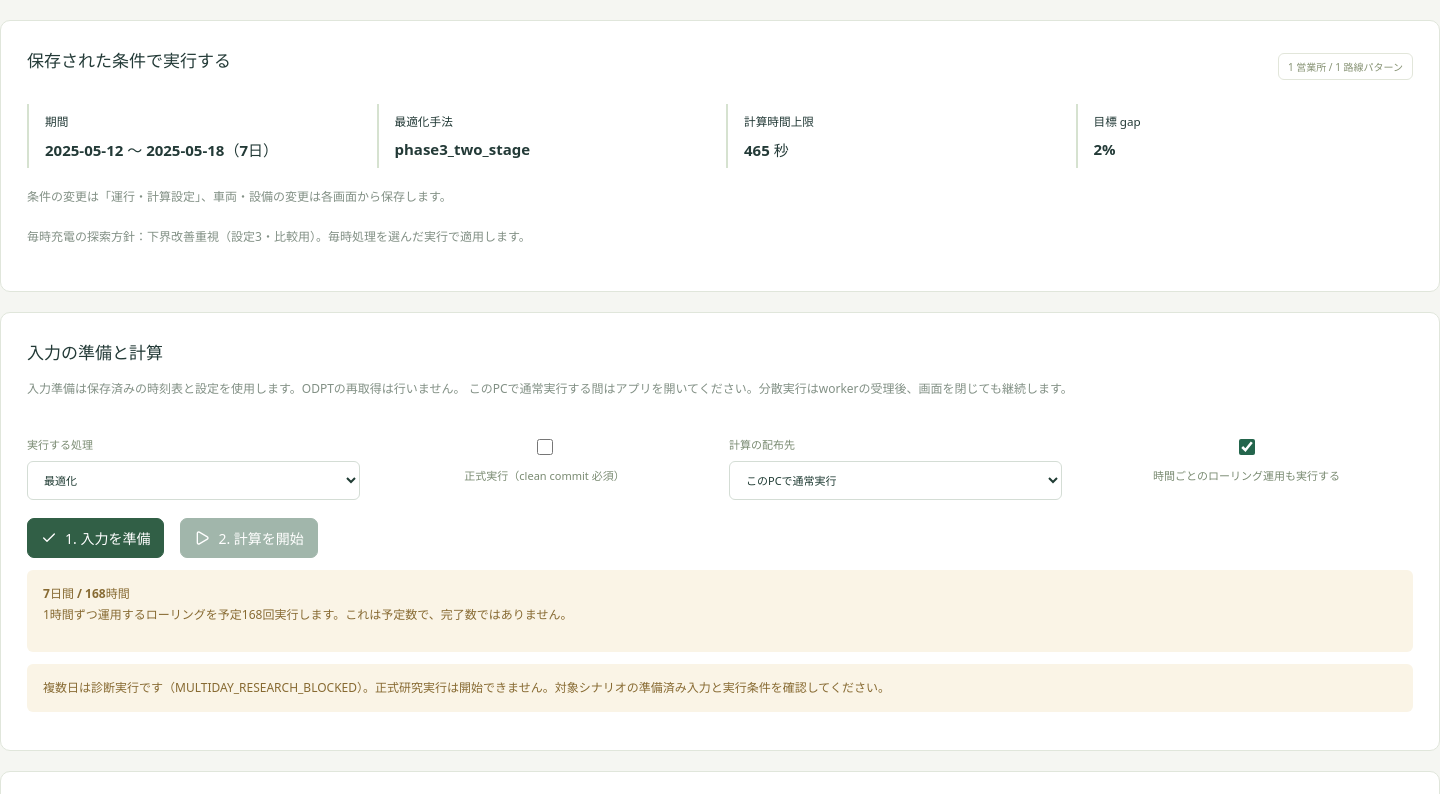
Test case: shows 168 planned windows and blocks formal seven-day execution
The image size is (1440, 794).
Click the button "1. 入力を準備". click: (96, 538)
box: [27, 518, 164, 558]
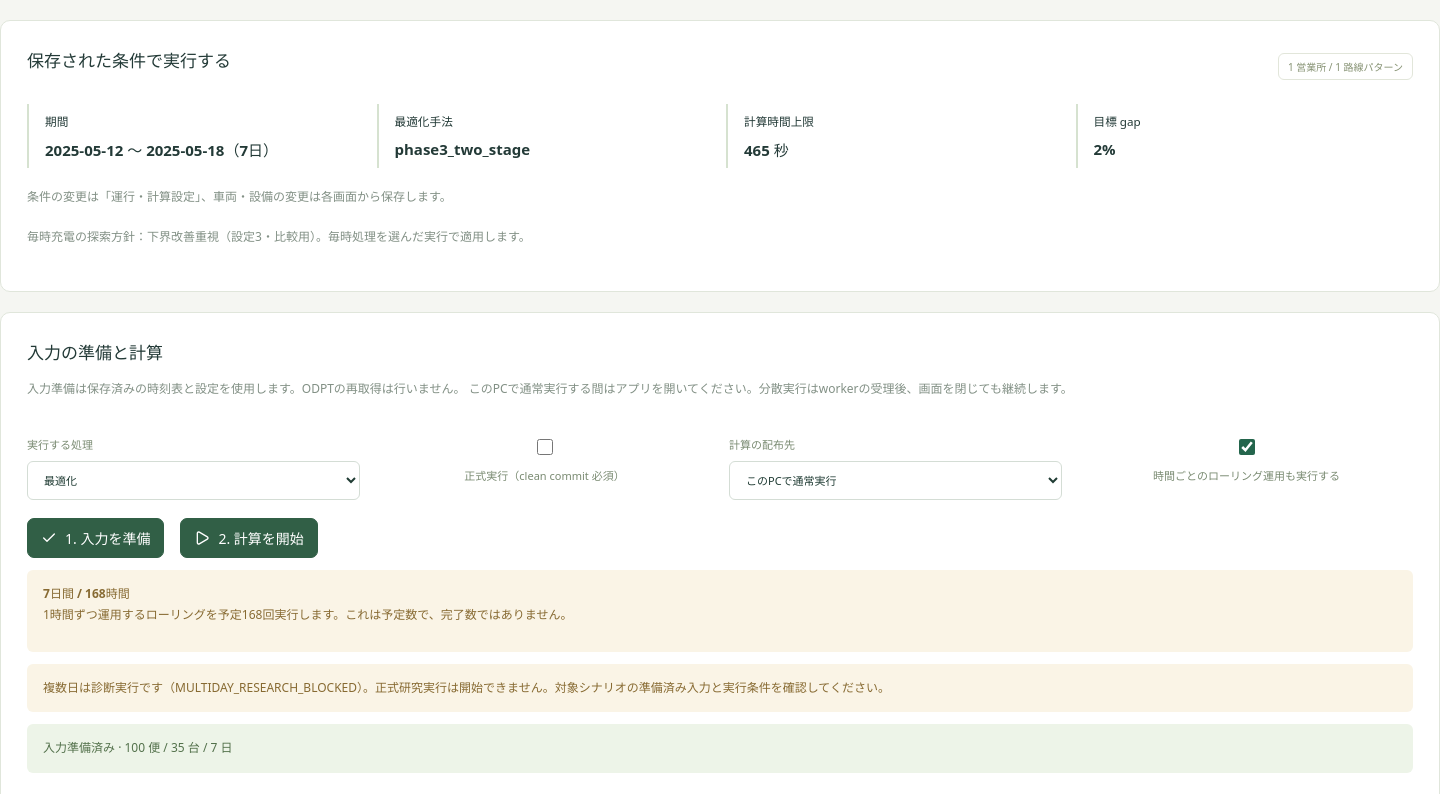
Expected: the text "1時間ずつ運用するローリングを予定168回実行します。これは予定数で、完了数ではありません。" is shown, [43, 606, 572, 623]
Expected: the text "入力準備済み · 100 便 / 35 台 / 7 日" is shown, [27, 724, 1413, 773]
Click the checkbox labelled "正式実行（clean commit 必須）". click: (545, 447)
box: [537, 439, 553, 455]
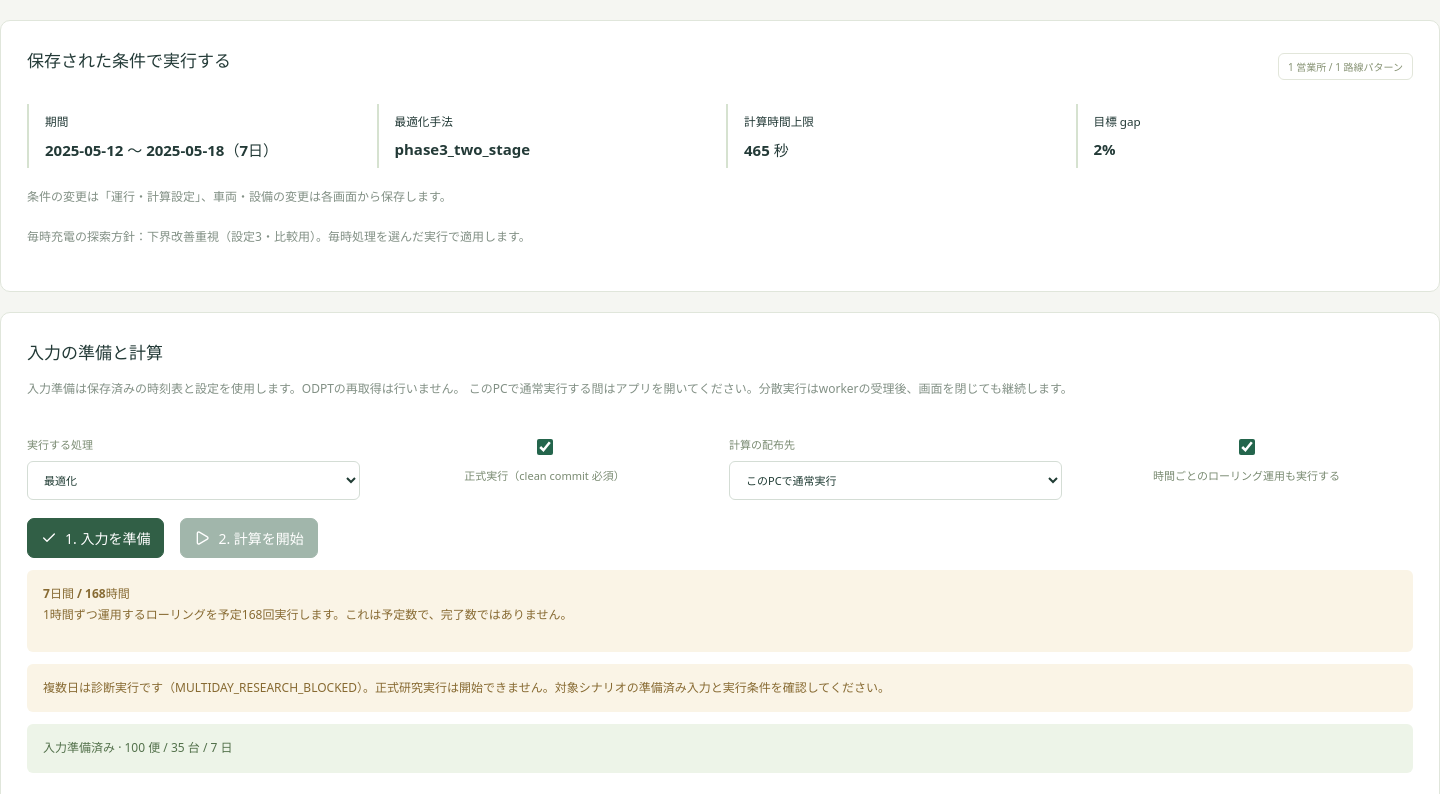
Expected: the button "2. 計算を開始" is disabled, [180, 518, 318, 558]
